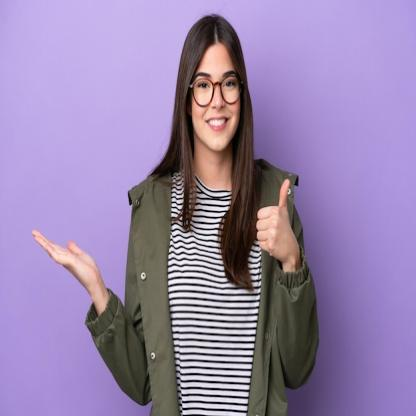thumb_up: (254, 176, 294, 262)
